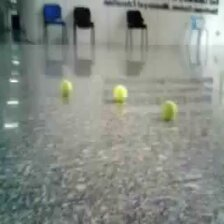tennis: (160, 99, 176, 118), (112, 85, 128, 101), (59, 79, 71, 95)
